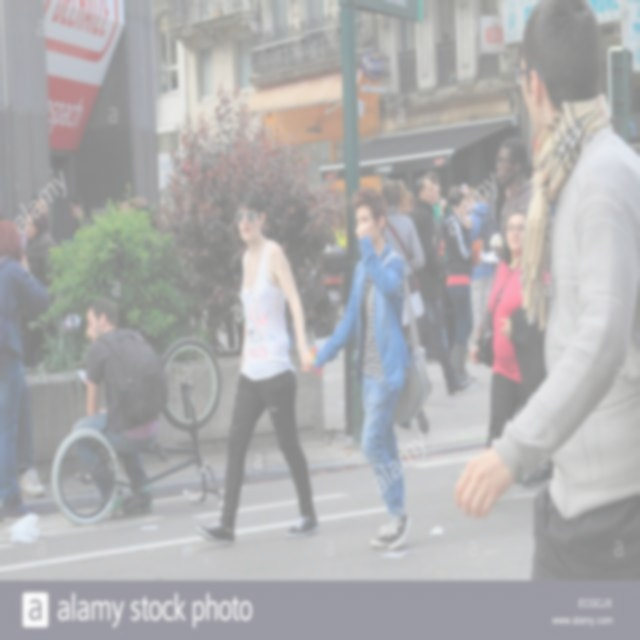pessoa: (452, 0, 640, 581), (194, 188, 323, 548), (300, 187, 412, 553), (68, 296, 168, 521), (470, 210, 551, 457), (0, 216, 50, 528), (406, 175, 472, 398), (378, 178, 431, 436), (500, 281, 563, 488), (441, 188, 477, 382), (20, 206, 58, 370), (492, 136, 537, 264), (10, 344, 46, 500), (393, 174, 485, 234), (466, 188, 494, 342), (200, 284, 243, 352), (113, 192, 168, 234), (20, 192, 62, 242), (20, 194, 50, 254), (68, 194, 94, 238)
